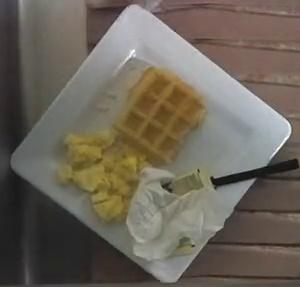scrambled_eggs: (57, 129, 146, 219)
waffle: (115, 66, 204, 160)
